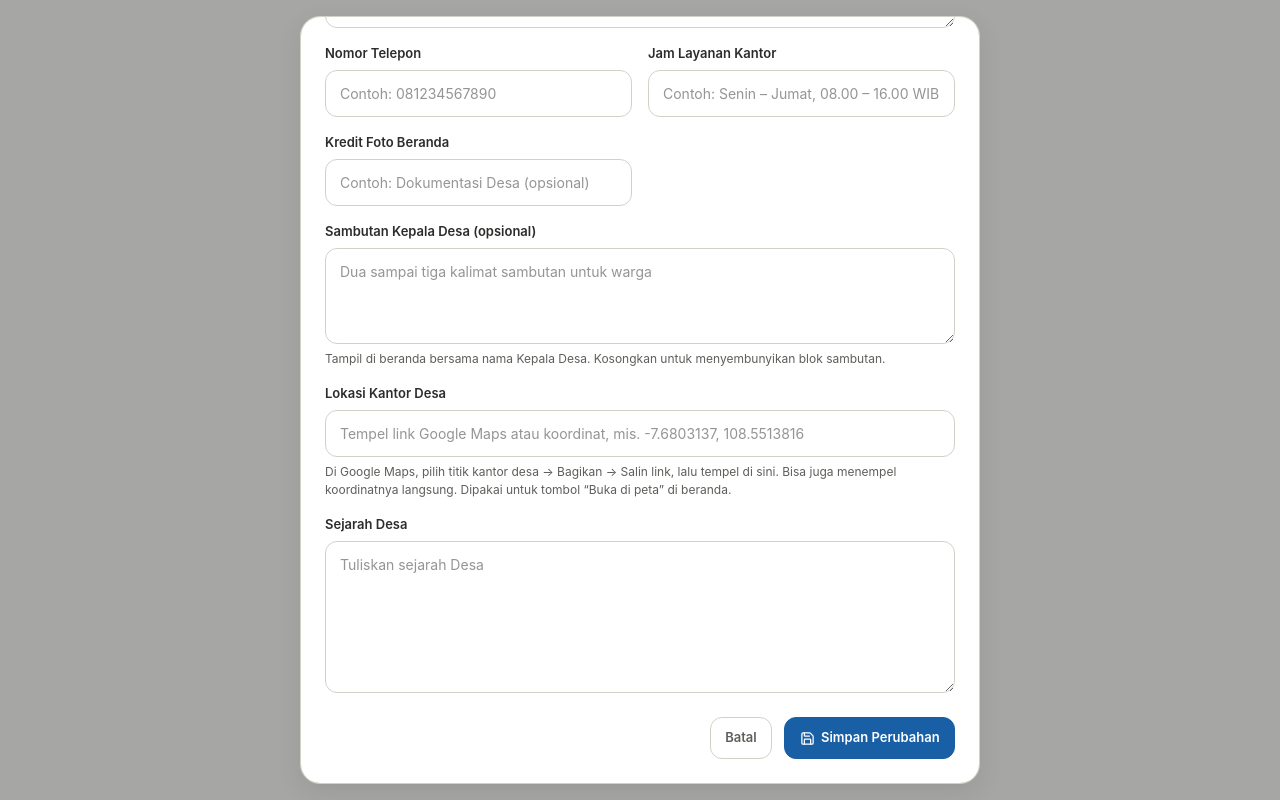
Scenario: EditProfilDesaModal - lokasi kantor desa › shows the backend message and does not save when the link has no point
This screenshot has width=1280, height=800.
(page scrolled)
Click the field labelled "Lokasi Kantor Desa" at (640, 434), box [325,410,955,457]
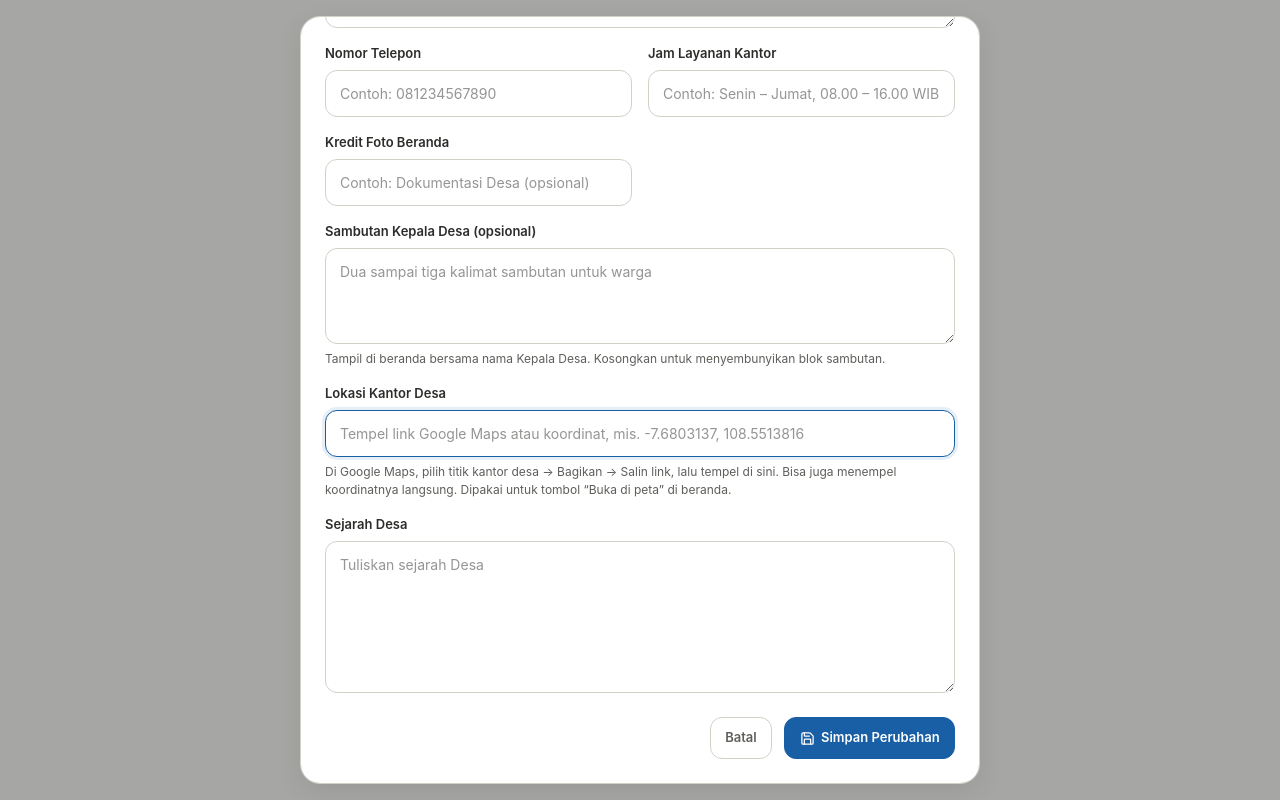
Type keys "https://example.com/peta"
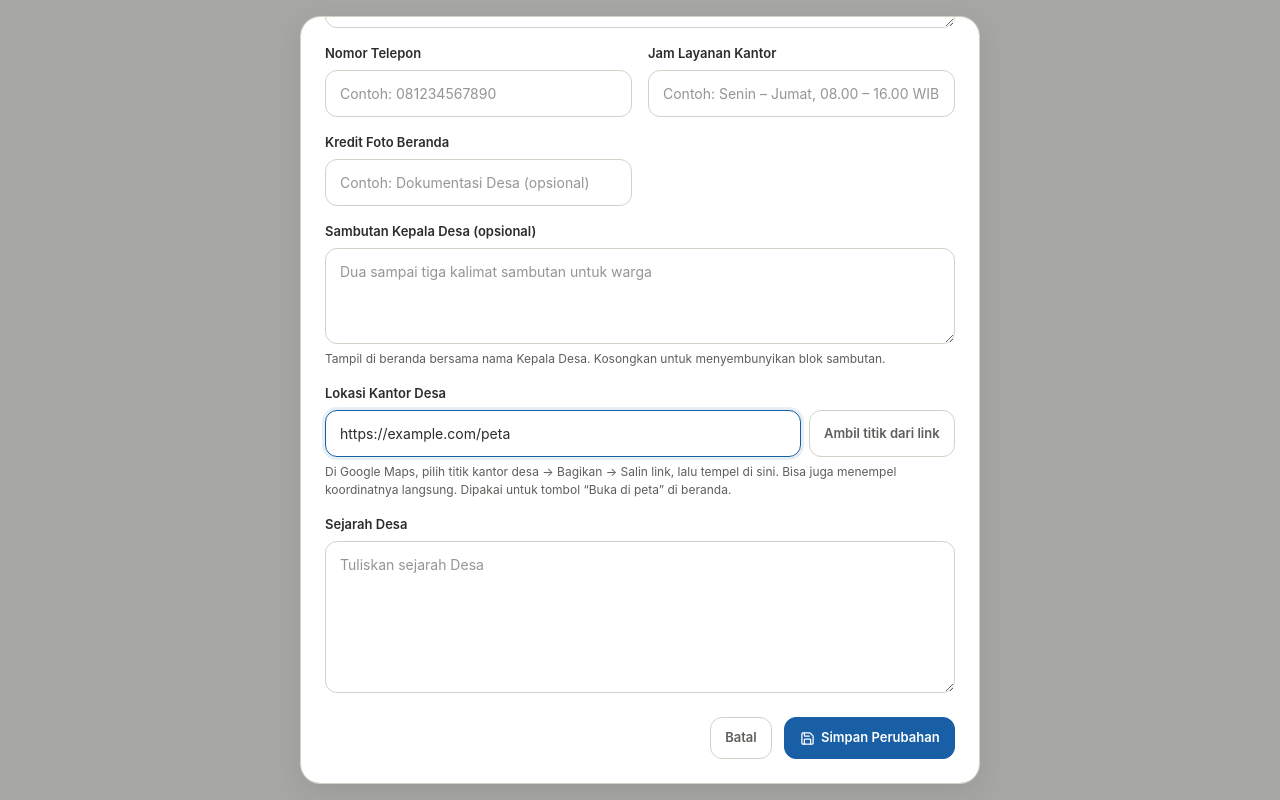
Click the button "Simpan Perubahan" at (870, 738), box [784,717,955,759]
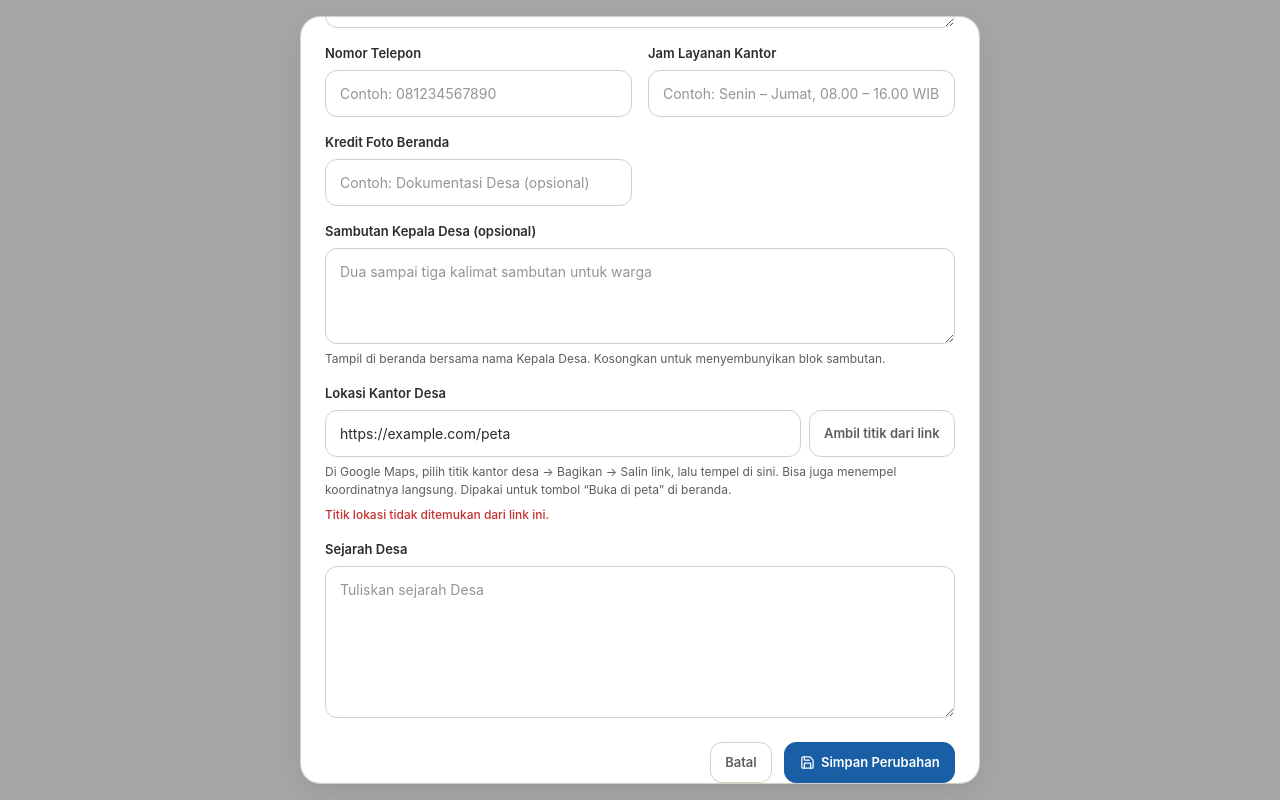
Expected: the message reads "Titik lokasi tidak ditemukan dari link ini.", [325,507,549,522]
